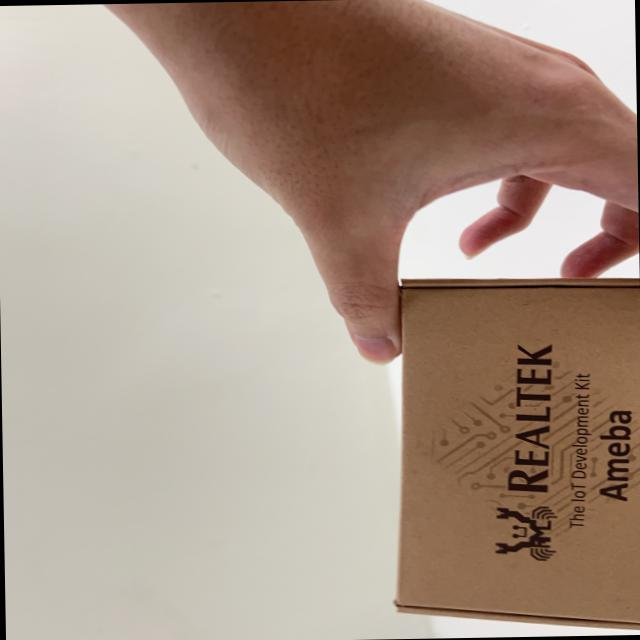box: (346, 256, 640, 639)
